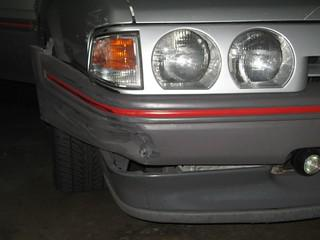rear-bumper-dent: (32, 58, 175, 164)
